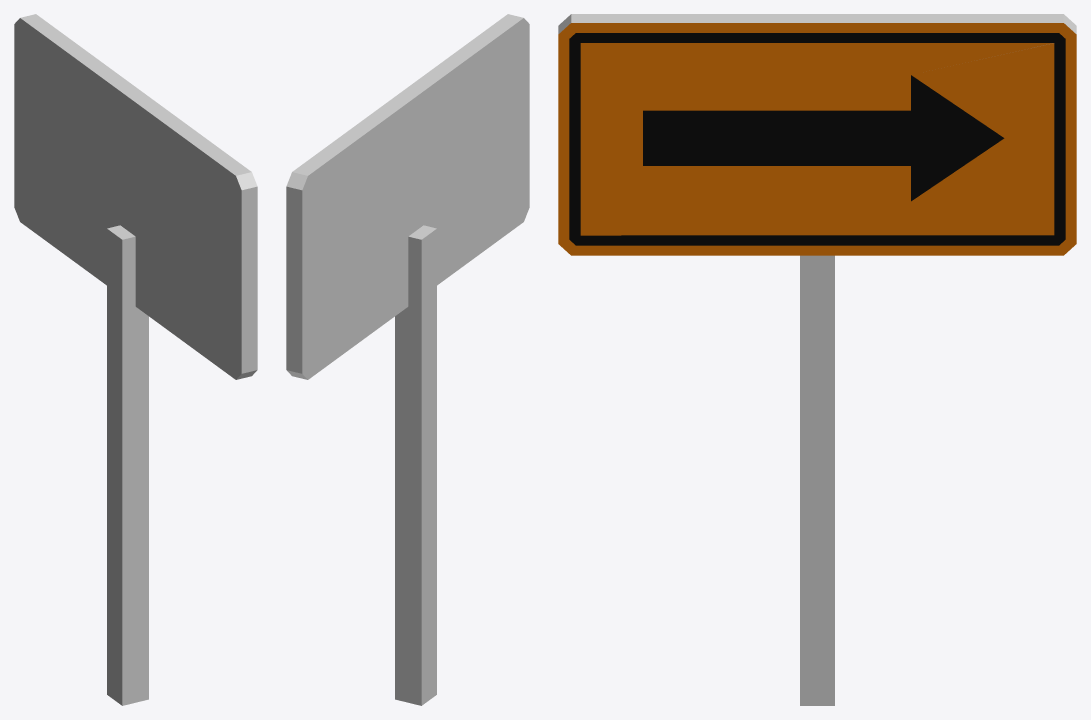
File: detourStop.fbx
The picture shows the model from 3 angles, left to right: view 1: azimuth 30°, elevation 25°; view 2: azimuth 150°, elevation 25°; view 3: azimuth 270°, elevation 25°; orthographic projection. The views are drawn at different scales.
Parts seen in each view (by area): view 1: Plane, Stick; view 2: Plane, Stick; view 3: Plane, Stick.
Part boxes in pixels (x1,y1,x2,y2): Plane: (14, 14, 257, 379); Stick: (107, 225, 148, 705); Plane: (286, 14, 529, 379); Stick: (395, 225, 436, 705); Plane: (558, 14, 1076, 255); Stick: (800, 255, 834, 705).
Size of the model in its own units: 34.5 by 675 by 464.
